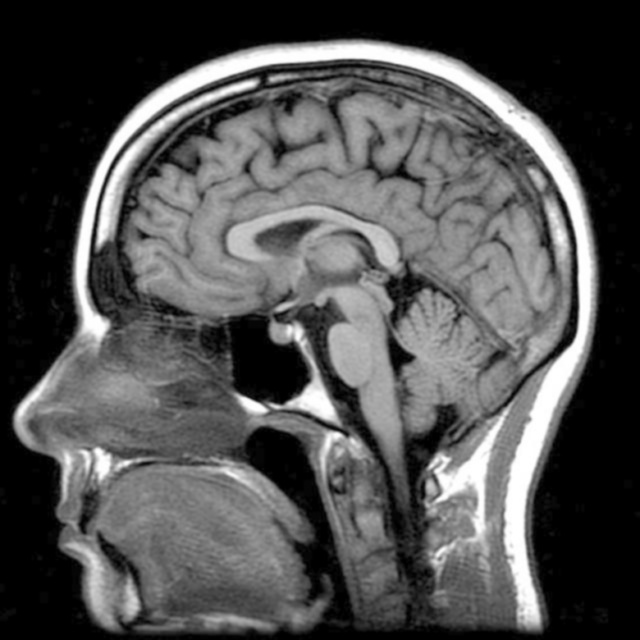glioma tumor: (138, 101, 535, 397)
